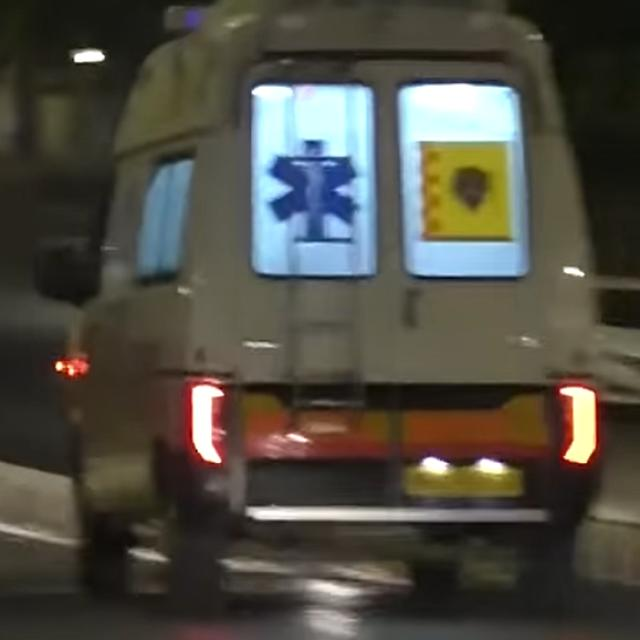ambulance: (39, 0, 611, 616)
